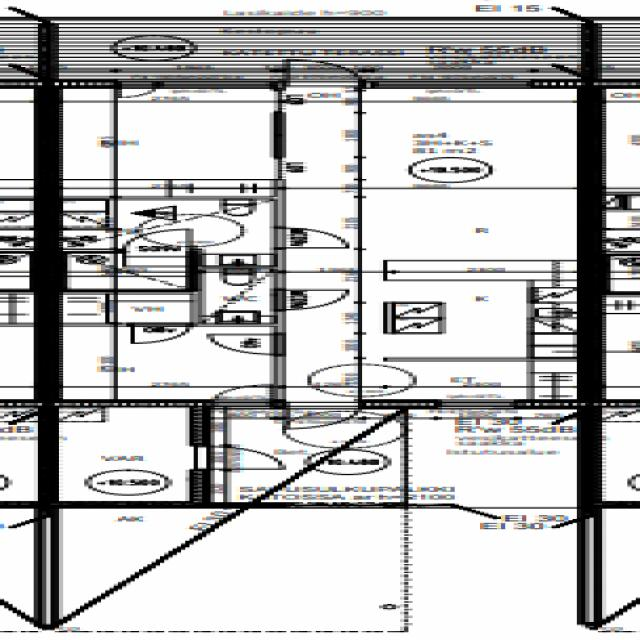door: (190, 447, 286, 470), (287, 58, 356, 88), (289, 401, 356, 431), (206, 334, 284, 356), (274, 229, 347, 248), (274, 291, 344, 310), (126, 232, 184, 253), (132, 324, 183, 343)
